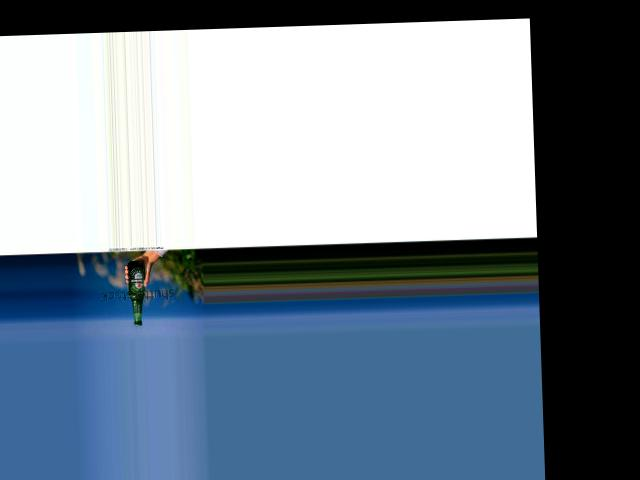beer: (127, 259, 146, 325)
